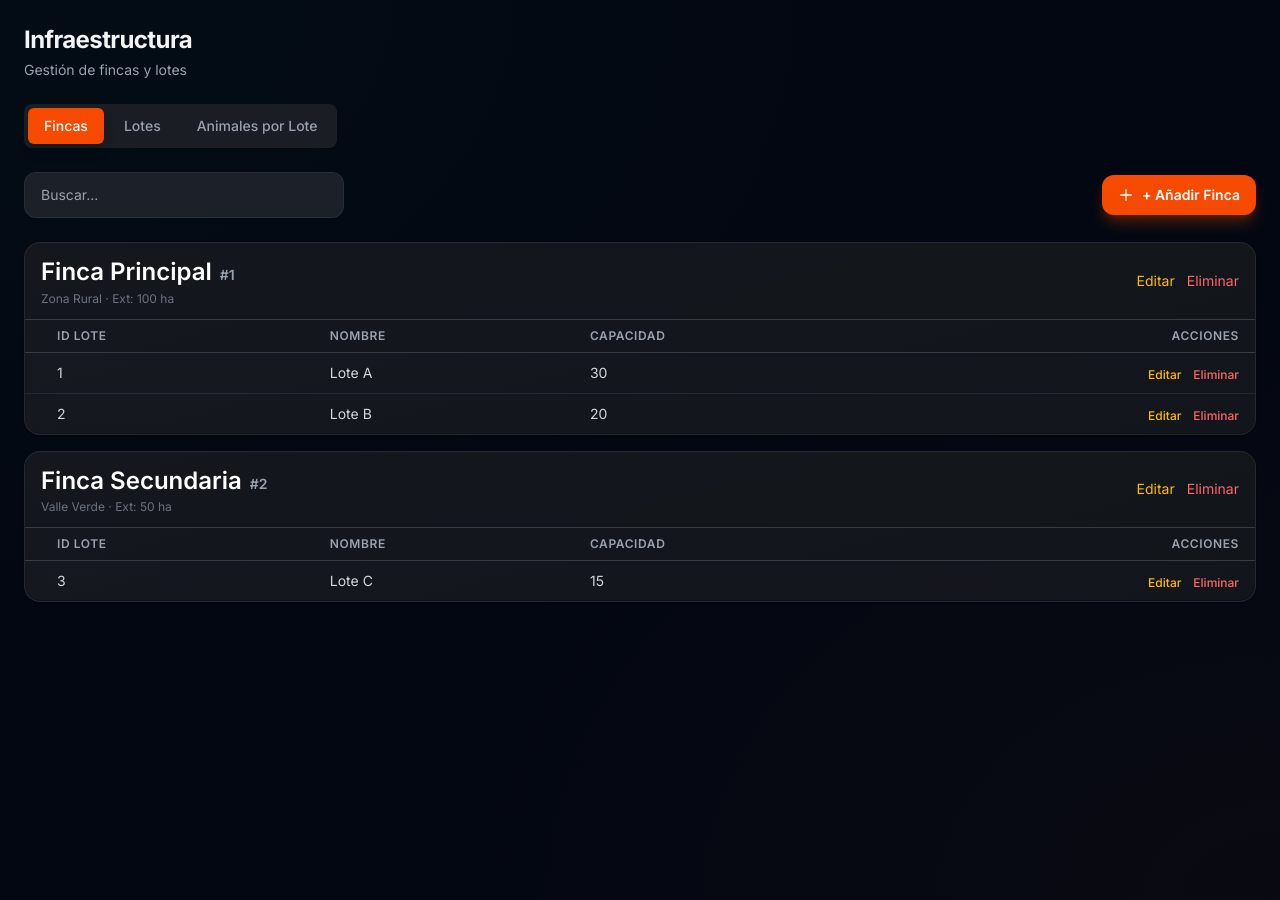
InfraestructuraPage › abre inline form al hacer clic en + Añadir Finca
This screenshot has width=1280, height=900.
Expected: the heading "Finca Principal#1" is shown, [41,257,235,286]
Click the button "+ Añadir Finca". click: click(1179, 195)
box: [1102,175,1256,215]
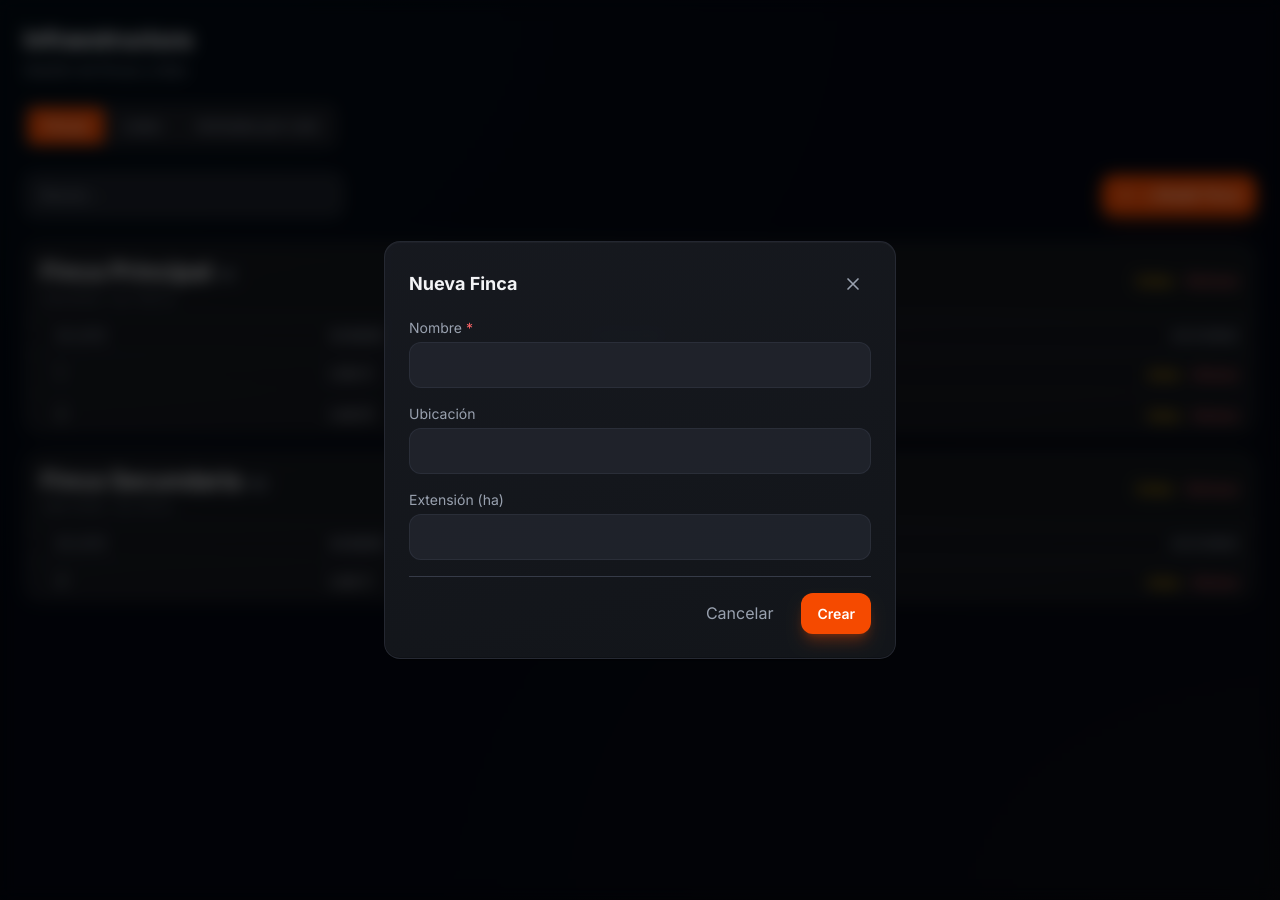
Now the heading "Nueva Finca" is shown, box [409,270,518,298]
Now the button "Crear" is shown, box [801,593,871,634]
